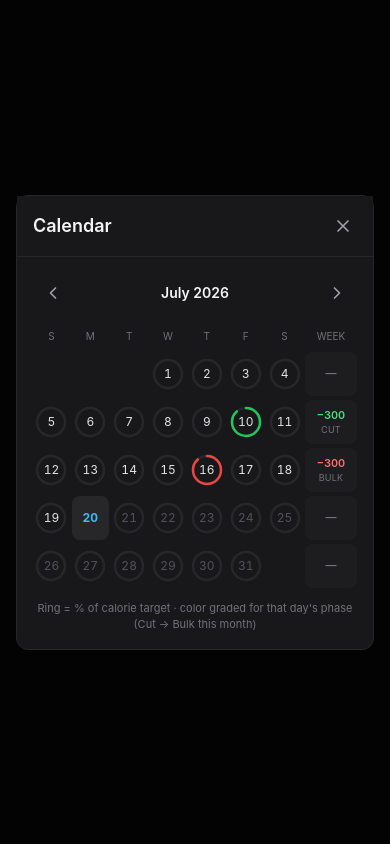
Test case: NutritionCalendarSheet › pages months and jumps back with Today
Expected: the element with test id "day-ring-arc" is shown, [232,408,260,436]
What coordinates should you click on to do the following:
click the button named "Previous month"
I would click on:
 (53, 292)
Its box is [33,272,73,312].
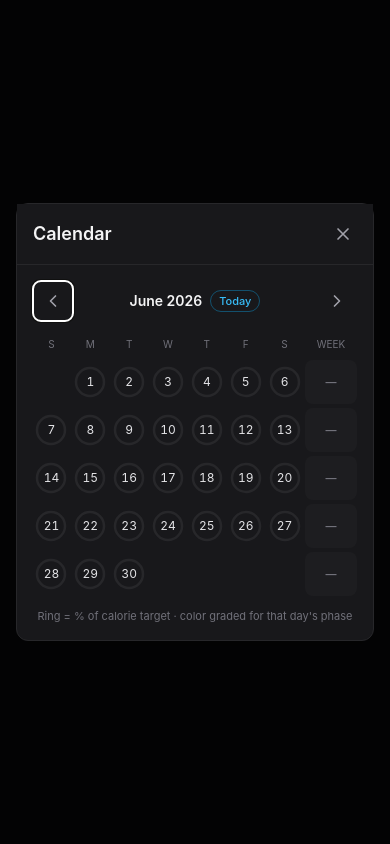
Now the text "June 2026" is shown, box [130,291,202,311]
What coordinates should you click on to do the following:
click the button "Today"
I would click on:
 (235, 301)
Its box is [210,290,260,312].
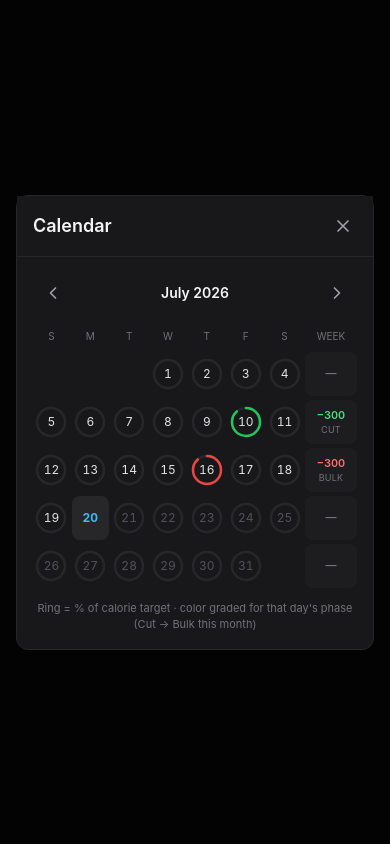
Now the text "July 2026" is shown, box [161,282,229,302]
